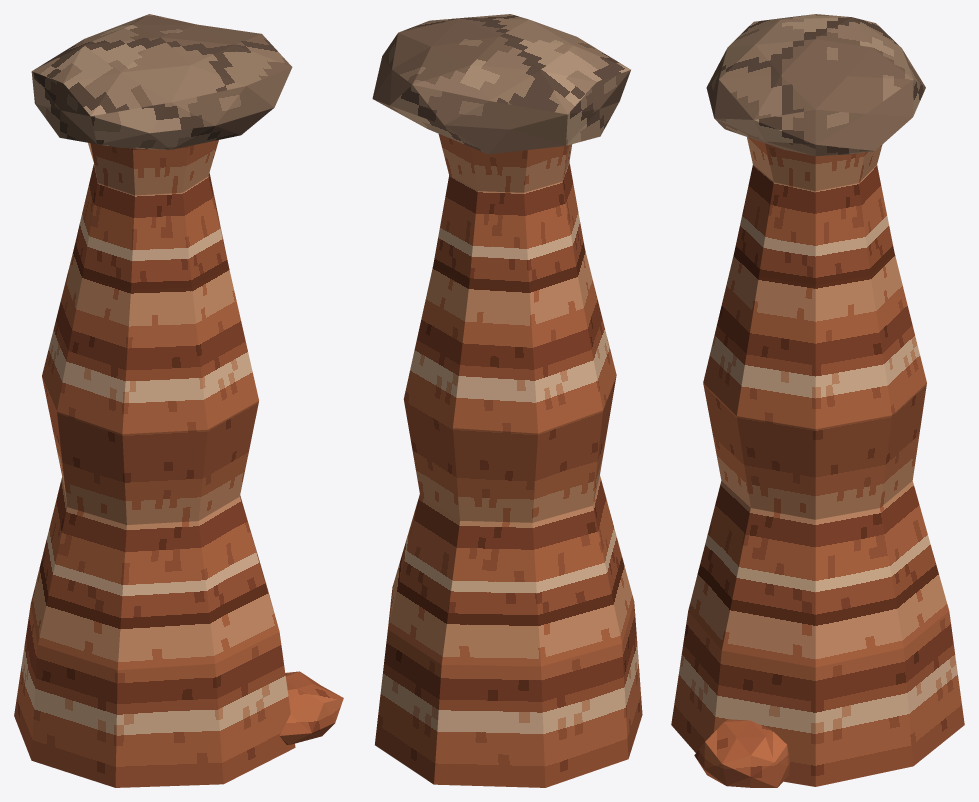
Rendered from hoodoo.glb.
3 views of the same model, side by side, from view 1: azimuth 30°, elevation 25°; view 2: azimuth 150°, elevation 25°; view 3: azimuth 270°, elevation 25° (orthographic).
Visible parts, largest first — view 1: hoodoo; view 2: hoodoo; view 3: hoodoo.
Part boxes in pixels (<box>): hoodoo: <box>14,14,343,787</box>; hoodoo: <box>372,14,642,787</box>; hoodoo: <box>671,14,964,787</box>.
Size of the model in its own units: 1.04 by 2.6 by 1.
Materials: 2 (2 with a texture image).
